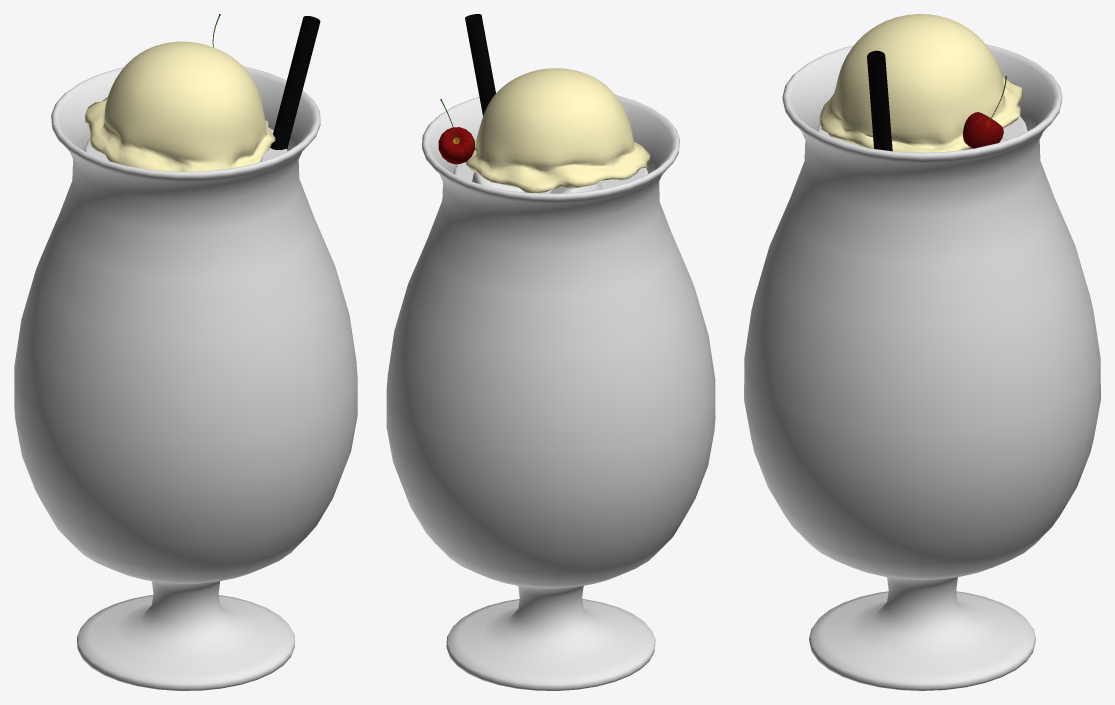
File: creamsoda.fbx
3 renders of one model, left to right at view 1: azimuth 30°, elevation 25°; view 2: azimuth 150°, elevation 25°; view 3: azimuth 270°, elevation 25°, orthographic. The views are drawn at different scales.
Visible parts, largest first — view 1: Glass, IceCream, Straw; view 2: Glass, IceCream, Straw, Cherry, Soda; view 3: Glass, IceCream, Straw, Cherry.
Boxes of the visible parts, bbox=[...] form: Glass: bbox=[14, 66, 357, 690]; IceCream: bbox=[85, 41, 275, 171]; Straw: bbox=[270, 16, 320, 149]; Glass: bbox=[386, 92, 715, 690]; IceCream: bbox=[465, 68, 650, 192]; Straw: bbox=[465, 14, 495, 115]; Cherry: bbox=[438, 99, 474, 164]; Soda: bbox=[453, 162, 648, 193]; Glass: bbox=[744, 44, 1100, 690]; IceCream: bbox=[819, 14, 1022, 152]; Straw: bbox=[867, 50, 892, 151]; Cherry: bbox=[963, 76, 1007, 148].
Size of the model in its own units: 192 by 381 by 192.
Materials: 7 (1 with a texture image).
